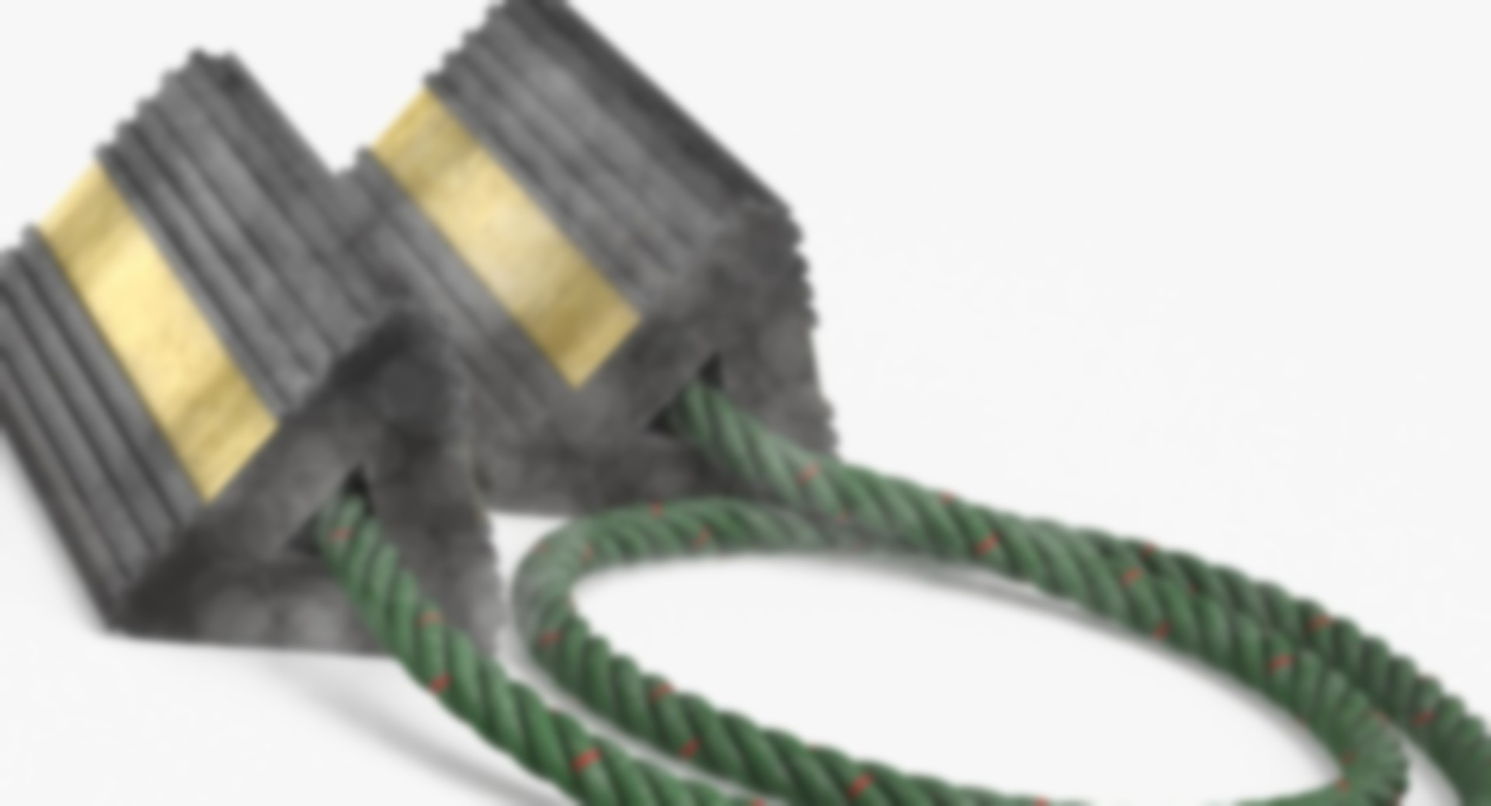chock: (0, 0, 707, 729), (210, 0, 1023, 602)
